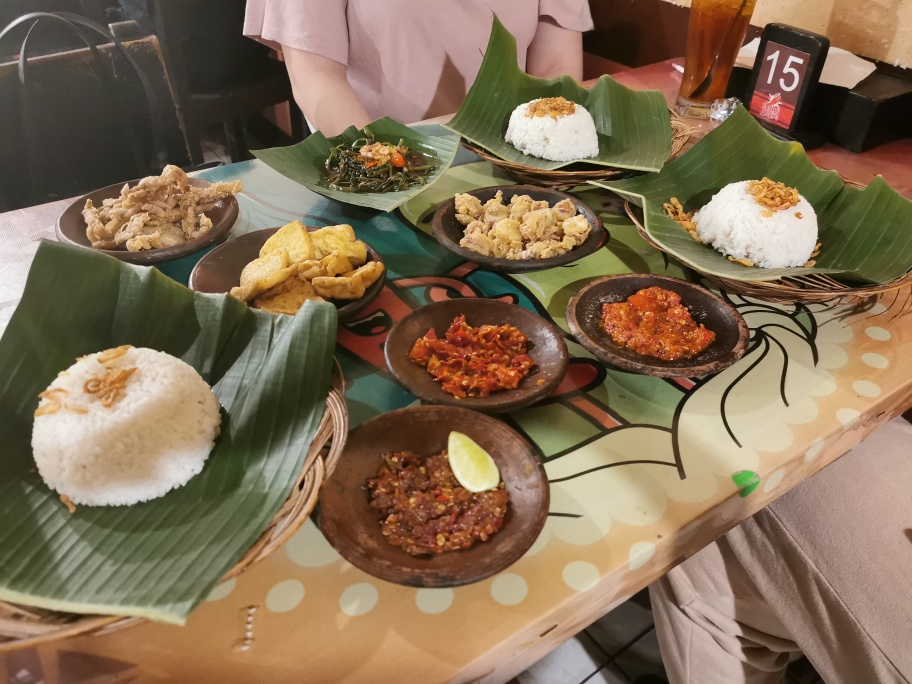nasi putih: (36, 340, 221, 509), (695, 173, 821, 273), (505, 85, 599, 165)
